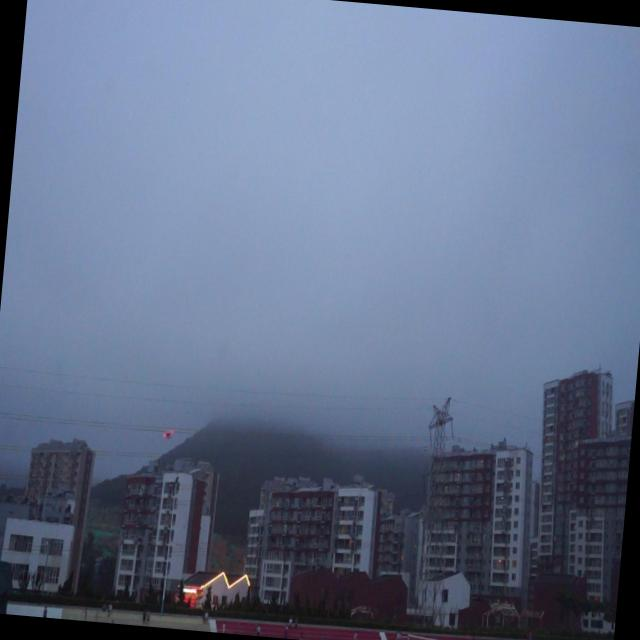drone: (160, 424, 177, 444)
